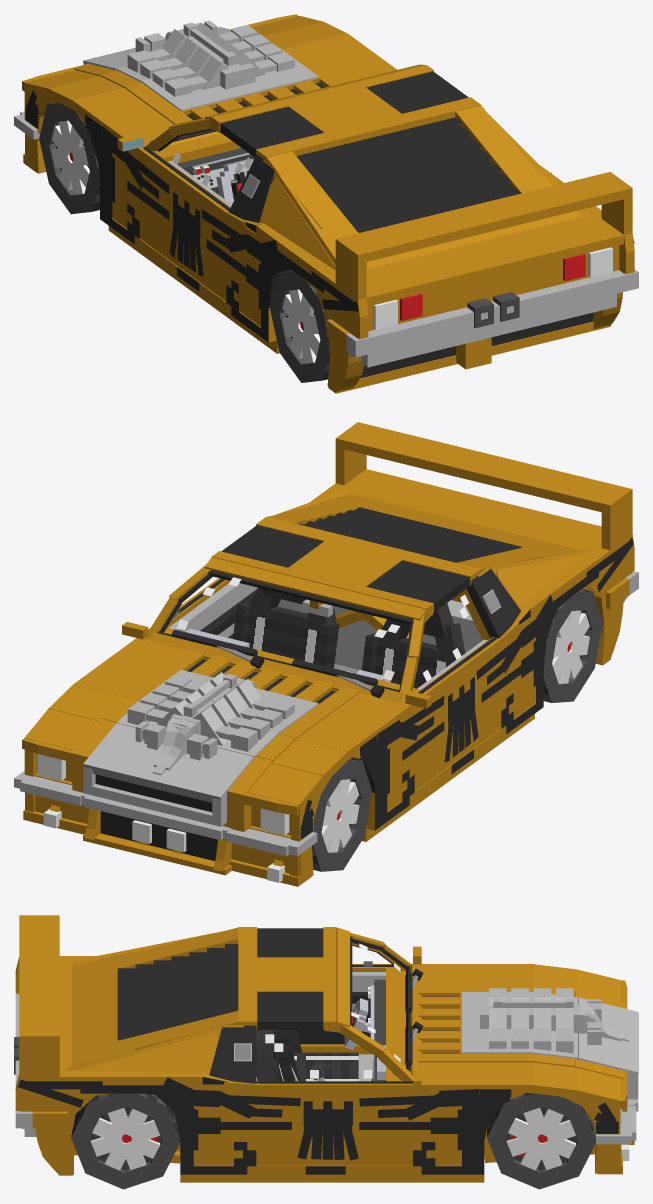
File: rivited.gltf
The picture shows the model from 3 angles, top to bottom: view 1: azimuth 30°, elevation 25°; view 2: azimuth 150°, elevation 25°; view 3: azimuth 270°, elevation 25°; orthographic projection. The views are drawn at different scales.
Parts seen in each view (by area): view 1: part1 (×54), backwheels_main, front_left, part2, int; view 2: part1 (×55), seat (×3), part2 (×3), backwheels_main, front_left, seatgp, wiper1, wiper2; view 3: part1 (×83), backwheels_main, front_right, part2 (×4), seat (×2), bone4 (×4), bone2 (×4), bone3 (×4), bone5 (×2), int, seatgp.
Boxes of the visible parts, bbox=[...] form: part1 (×54): bbox=[24, 21, 632, 393]; backwheels_main: bbox=[270, 270, 329, 382]; front_left: bbox=[39, 102, 99, 214]; part2: bbox=[108, 226, 279, 353]; int: bbox=[185, 148, 254, 175]; part1 (×55): bbox=[20, 422, 632, 886]; seat (×3): bbox=[246, 605, 465, 688]; part2 (×3): bbox=[168, 583, 534, 841]; backwheels_main: bbox=[543, 589, 602, 702]; front_left: bbox=[312, 758, 372, 871]; seatgp: bbox=[435, 623, 465, 657]; wiper1: bbox=[292, 659, 377, 685]; wiper2: bbox=[171, 629, 257, 656]; part1 (×83): bbox=[18, 915, 638, 1174]; backwheels_main: bbox=[71, 1093, 180, 1189]; front_right: bbox=[487, 1093, 595, 1189]; part2 (×4): bbox=[180, 972, 484, 1182]; seat (×2): bbox=[273, 1030, 358, 1081]; bone4 (×4): bbox=[91, 1108, 159, 1170]; bone2 (×4): bbox=[507, 1108, 575, 1170]; bone3 (×4): bbox=[508, 1108, 575, 1170]; bone5 (×2): bbox=[104, 1135, 160, 1170]; int: bbox=[374, 985, 385, 1045]; seatgp: bbox=[256, 1058, 277, 1081].
Size of the model in its own units: 2.22 by 1.2 by 4.37.
1 material, 1 textured.
